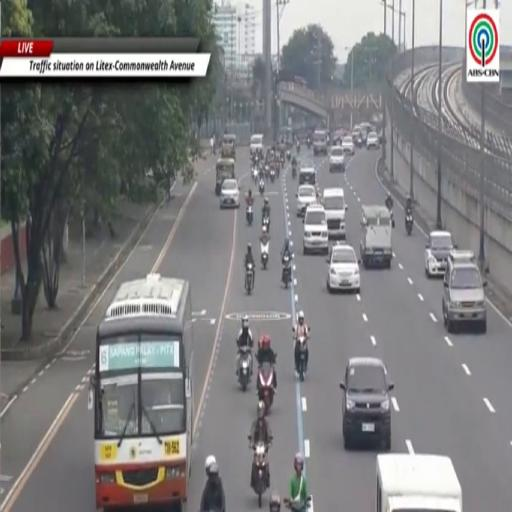bus: (89, 275, 193, 510)
car: (340, 358, 393, 451), (442, 250, 486, 333), (327, 243, 360, 293), (424, 231, 456, 278), (322, 187, 347, 238), (303, 204, 328, 254), (297, 185, 317, 217), (219, 179, 240, 209), (330, 147, 345, 172), (313, 131, 327, 155), (299, 166, 316, 185), (250, 134, 263, 155), (341, 136, 354, 155), (366, 132, 380, 149), (351, 125, 361, 142)
jeepney: (215, 158, 235, 196), (221, 134, 236, 159), (277, 127, 292, 151)
motorcycle: (250, 442, 269, 507), (258, 362, 274, 414), (293, 328, 307, 381), (239, 346, 252, 391), (283, 496, 311, 511), (297, 335, 306, 381), (282, 254, 291, 287), (245, 263, 254, 294), (261, 240, 269, 269), (405, 212, 413, 235), (387, 205, 395, 228), (262, 213, 270, 233), (246, 204, 253, 226), (259, 178, 265, 196), (252, 167, 258, 183), (390, 210, 395, 228), (264, 166, 270, 180), (270, 169, 275, 183), (286, 149, 291, 162), (276, 165, 281, 178), (292, 166, 296, 180), (280, 153, 284, 166), (307, 138, 311, 149), (297, 143, 300, 154)
truck: (376, 454, 462, 511), (360, 205, 392, 268)
